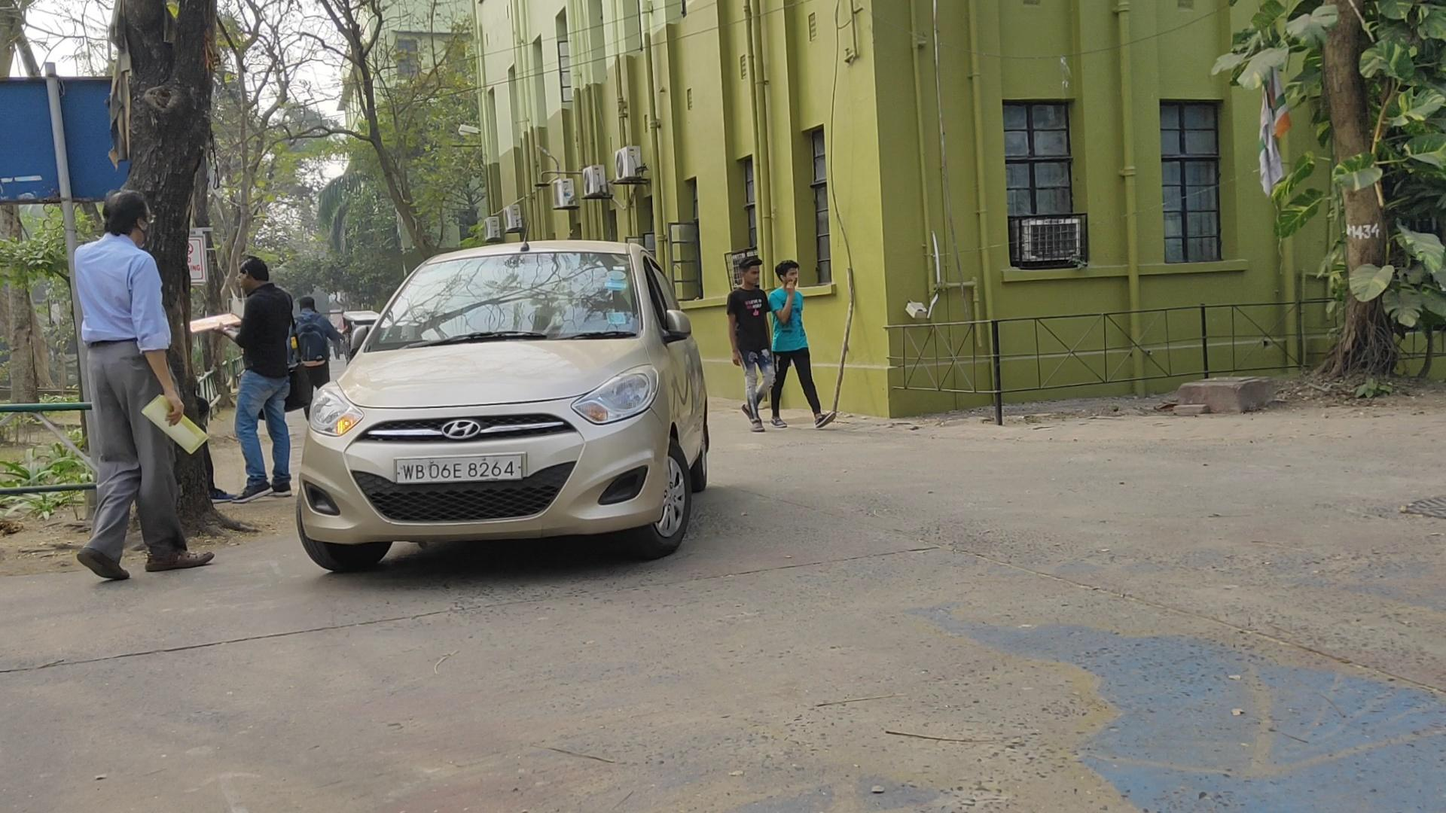car: (294, 237, 712, 574)
